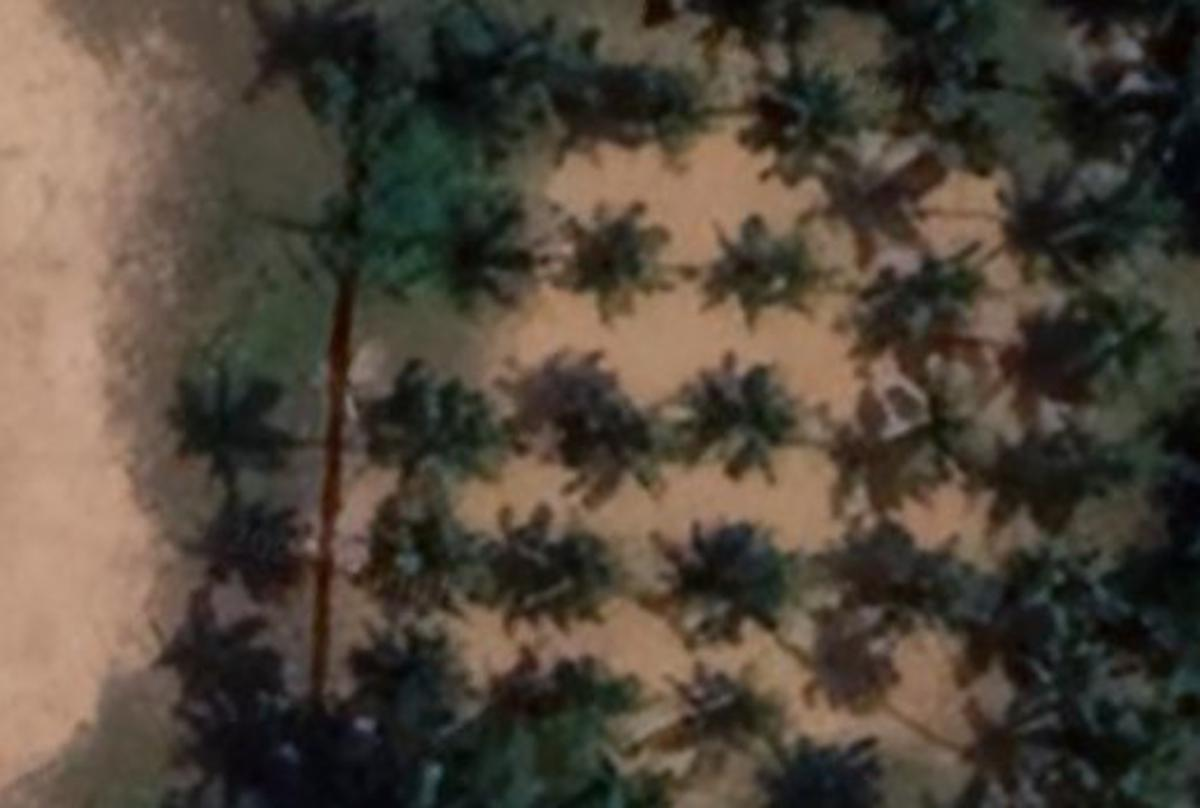coconut: (698, 208, 837, 359), (371, 366, 524, 485), (499, 517, 629, 650), (552, 197, 673, 334), (682, 355, 803, 492), (557, 387, 677, 522), (675, 515, 789, 647), (357, 624, 494, 733), (1046, 294, 1188, 397), (369, 487, 478, 617), (1046, 181, 1174, 290), (663, 654, 789, 761), (884, 373, 1007, 482), (427, 199, 540, 315), (882, 241, 995, 355), (893, 524, 993, 650), (1063, 53, 1162, 164), (1067, 420, 1181, 513), (758, 58, 851, 167), (909, 51, 995, 136)
